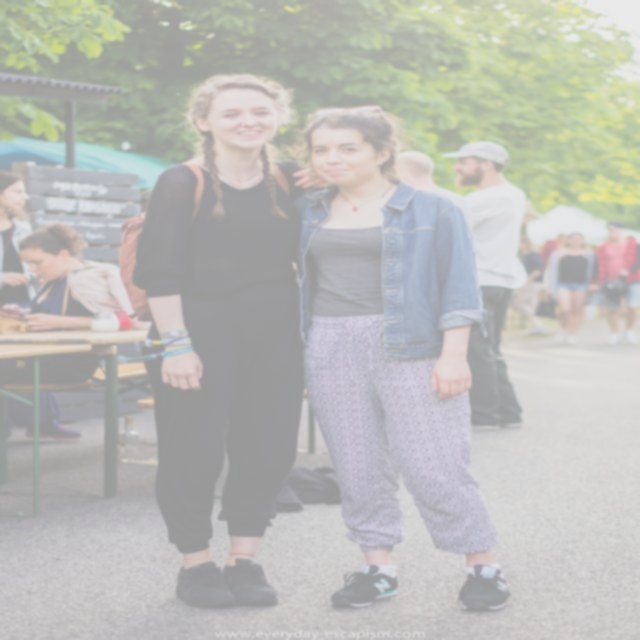pessoa: (287, 109, 514, 614), (128, 73, 332, 611), (435, 140, 532, 431), (0, 168, 85, 444), (0, 223, 136, 386), (538, 230, 600, 346), (590, 219, 639, 348), (506, 236, 550, 338), (392, 150, 466, 204), (588, 244, 598, 326), (545, 232, 567, 251), (627, 234, 640, 242), (300, 389, 309, 398)
